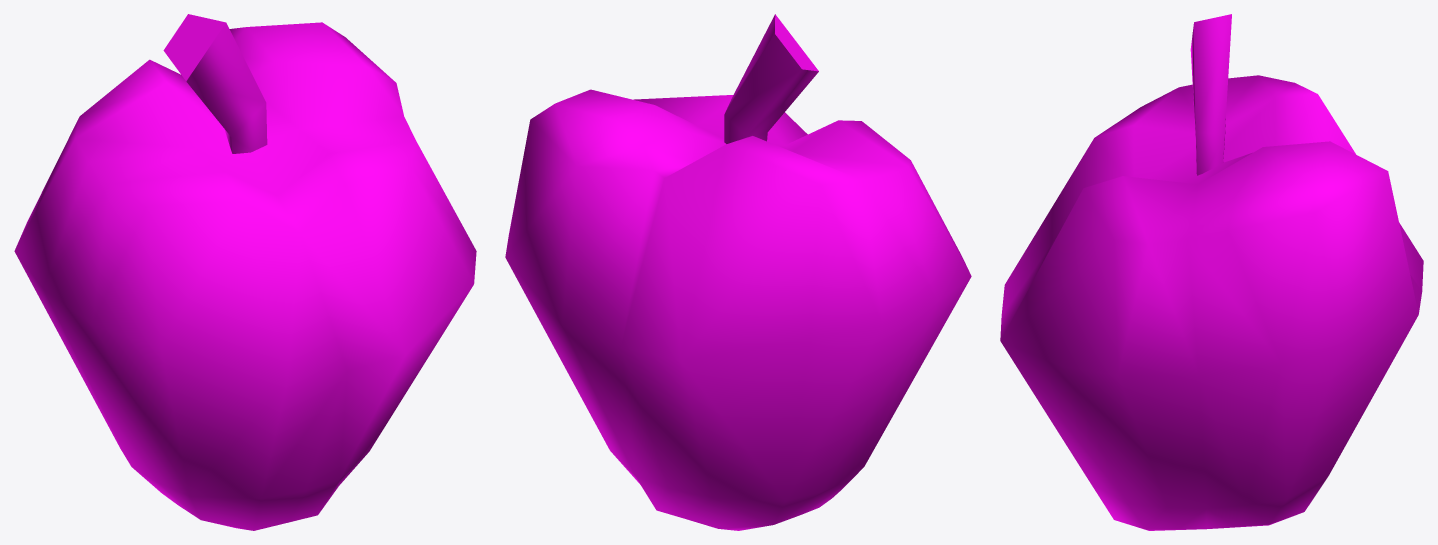
The model's file is apple_meshCollider.fbx.
The picture shows the model from 3 angles, left to right: view 1: azimuth 30°, elevation 25°; view 2: azimuth 150°, elevation 25°; view 3: azimuth 270°, elevation 25°; orthographic projection. The views are drawn at different scales.
Visible parts, largest first — view 1: apple_meshCollider; view 2: apple_meshCollider; view 3: apple_meshCollider.
Part boxes in pixels (<box>): apple_meshCollider: <box>14,14,476,530</box>; apple_meshCollider: <box>505,14,971,530</box>; apple_meshCollider: <box>1000,14,1423,530</box>.
Bounding box in the file's own units: 10.27 × 12.08 × 9.56.
